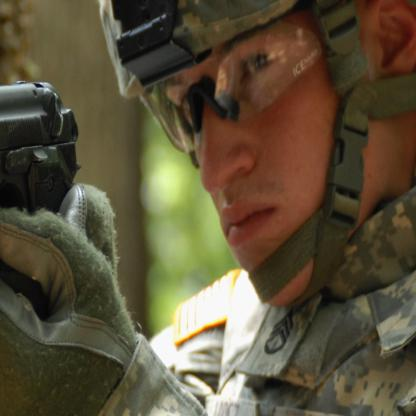gun: (0, 78, 92, 282)
